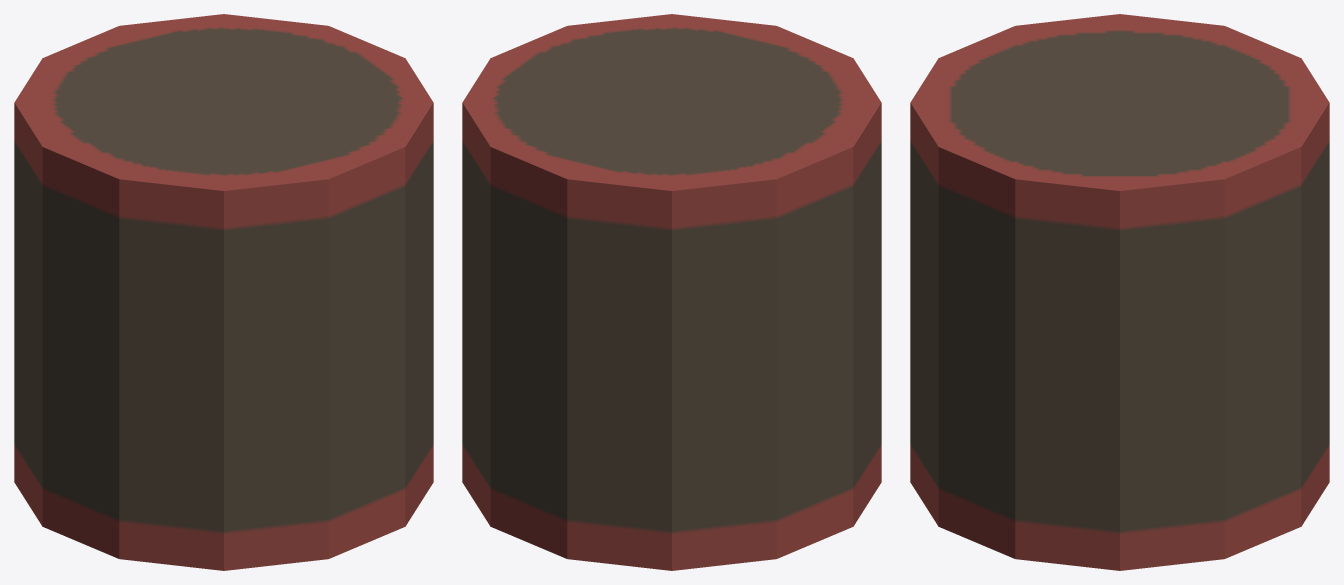
File: BattleField.fbx
The picture shows the model from 3 angles, left to right: view 1: azimuth 30°, elevation 25°; view 2: azimuth 150°, elevation 25°; view 3: azimuth 270°, elevation 25°; orthographic projection.
Parts seen in each view (by area): view 1: 円柱; view 2: 円柱; view 3: 円柱.
Boxes of the visible parts, x1,y1,x2,y2 form: 円柱: (14, 14, 433, 570); 円柱: (462, 14, 881, 570); 円柱: (910, 14, 1329, 570).
Size of the model in its own units: 2 by 2 by 2.
1 material, 1 textured.
